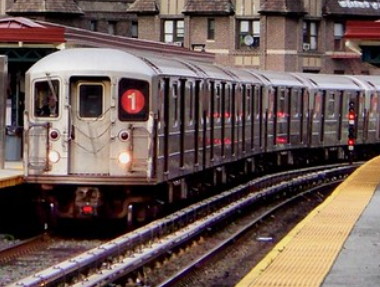train: (14, 49, 168, 192)
